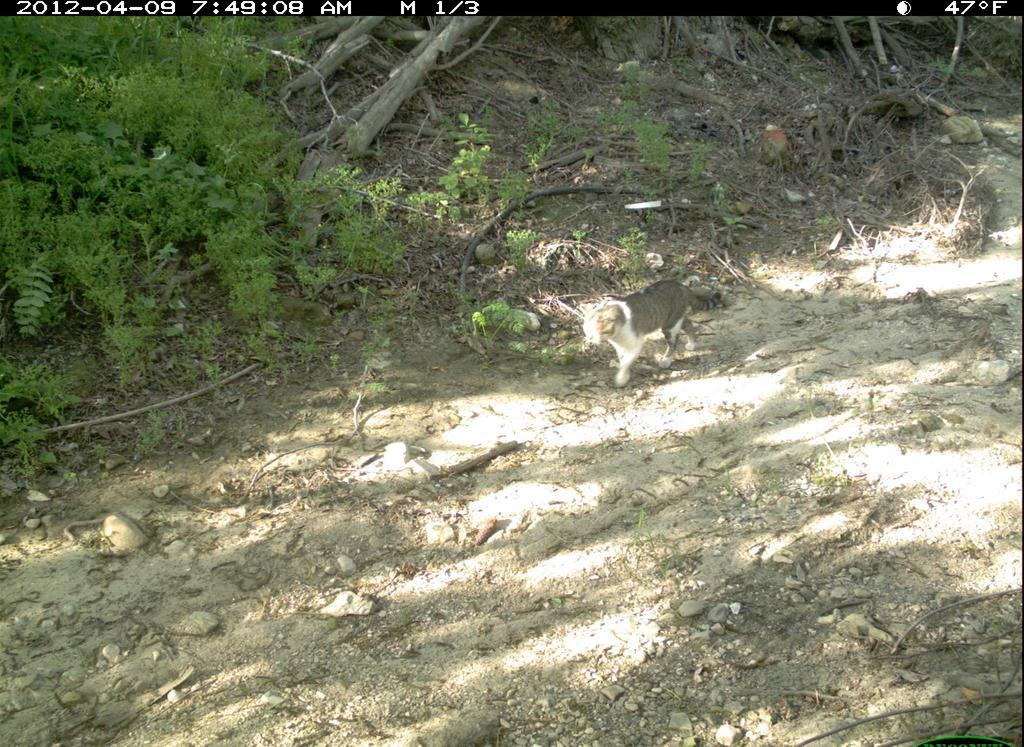cat: (574, 278, 730, 391)
